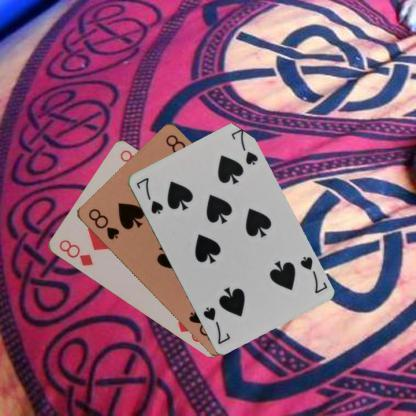7s: (133, 174, 164, 216), (297, 254, 329, 294)
8d: (56, 236, 94, 268)
8s: (86, 206, 121, 242)
